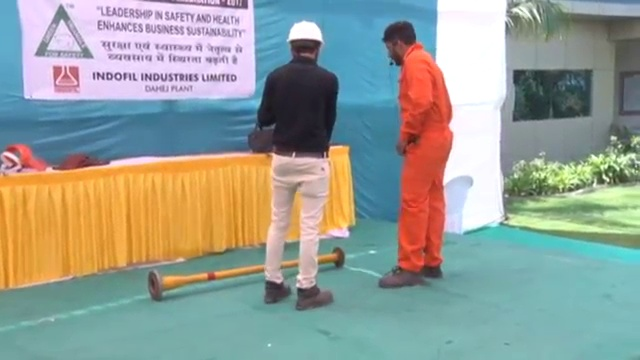helmet: (286, 19, 324, 46)
helmet_off: (380, 20, 419, 70)
helmet_on: (284, 19, 324, 64)
person: (252, 20, 337, 311), (374, 19, 455, 286)
